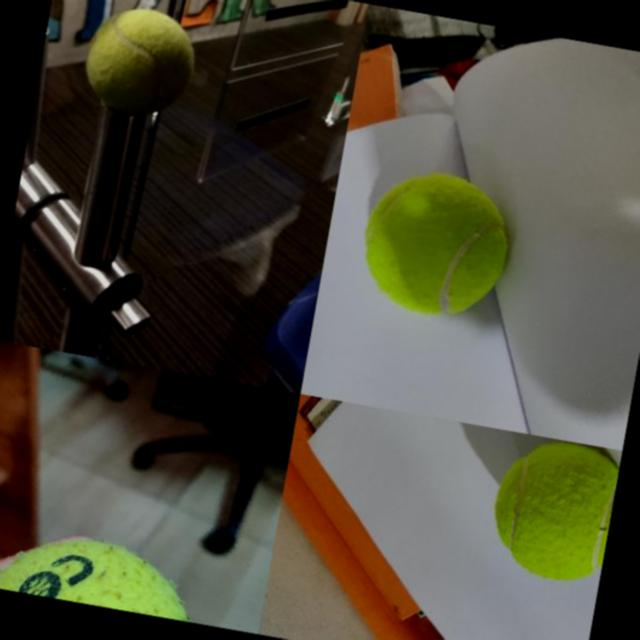tennis-ball: (351, 162, 519, 330), (0, 518, 215, 623), (482, 430, 621, 588), (76, 0, 203, 123)
